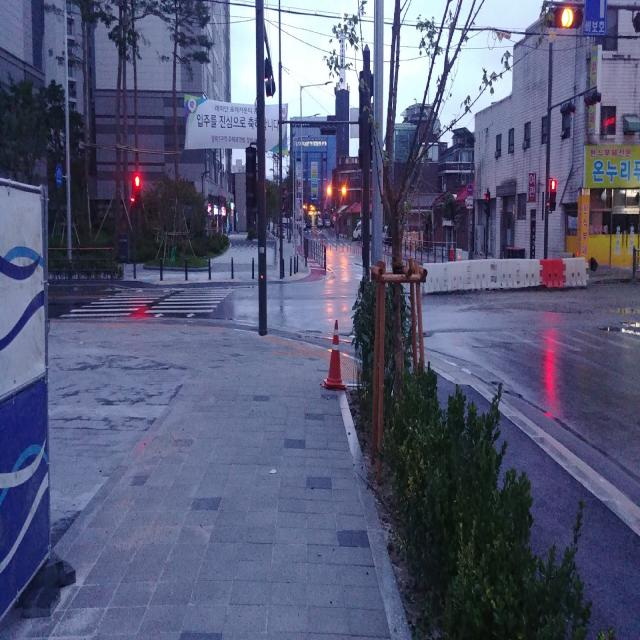빨간불: (133, 172, 142, 210), (547, 179, 557, 209)
횡단보도: (58, 288, 240, 319)
